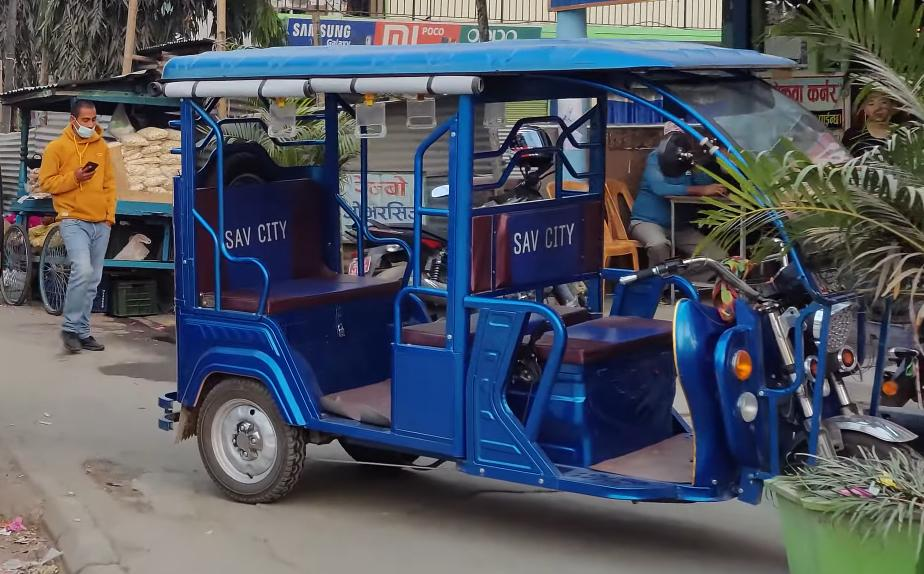e-rickshaw: (143, 26, 924, 555)
